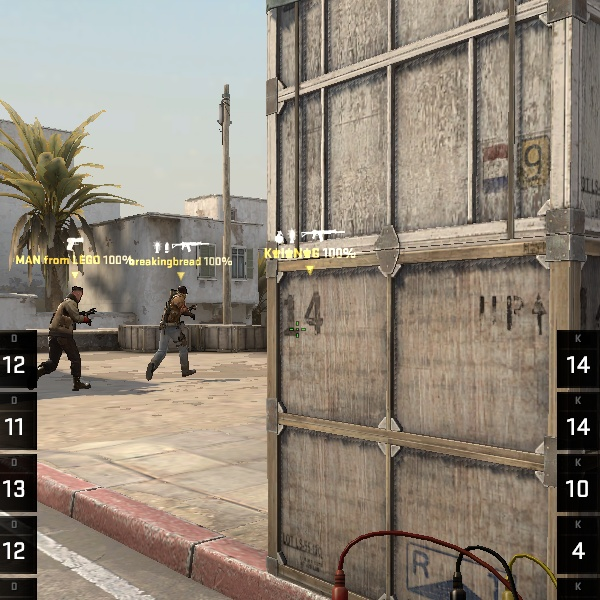t_body: (38, 285, 93, 391), (145, 285, 197, 379)
t_head: (70, 286, 84, 301), (178, 285, 188, 299)
